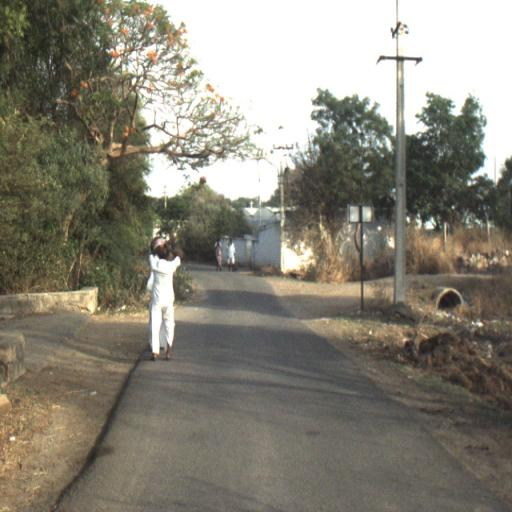street_light_0: (264, 158, 284, 190)
